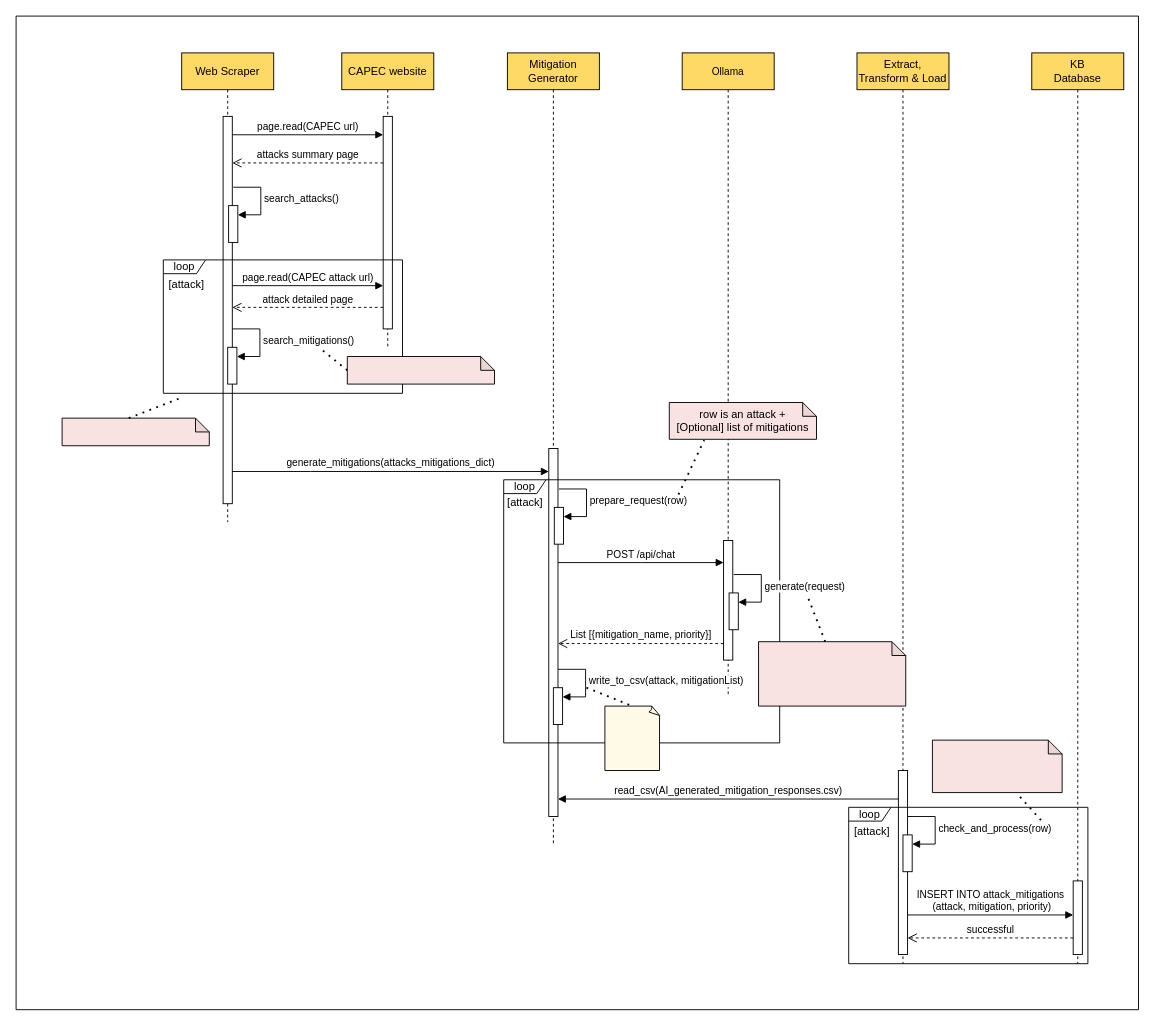
Some shapes in this 1155 by 1026 pixel diagram are drawn without their labels. Here are the shapes that lost their labels. From the top down, the box of each, then its label:
(346, 356, 494, 384): can return empty list
(61, 417, 209, 446): returns an attacks_mitigations_dict
(758, 641, 906, 706): generate a dict with mitigations and priorities using L lama3
(604, 705, 660, 770): AI generated mitigation responses.csv
(932, 739, 1062, 793): row is an attack + list of mitigations + priorities
